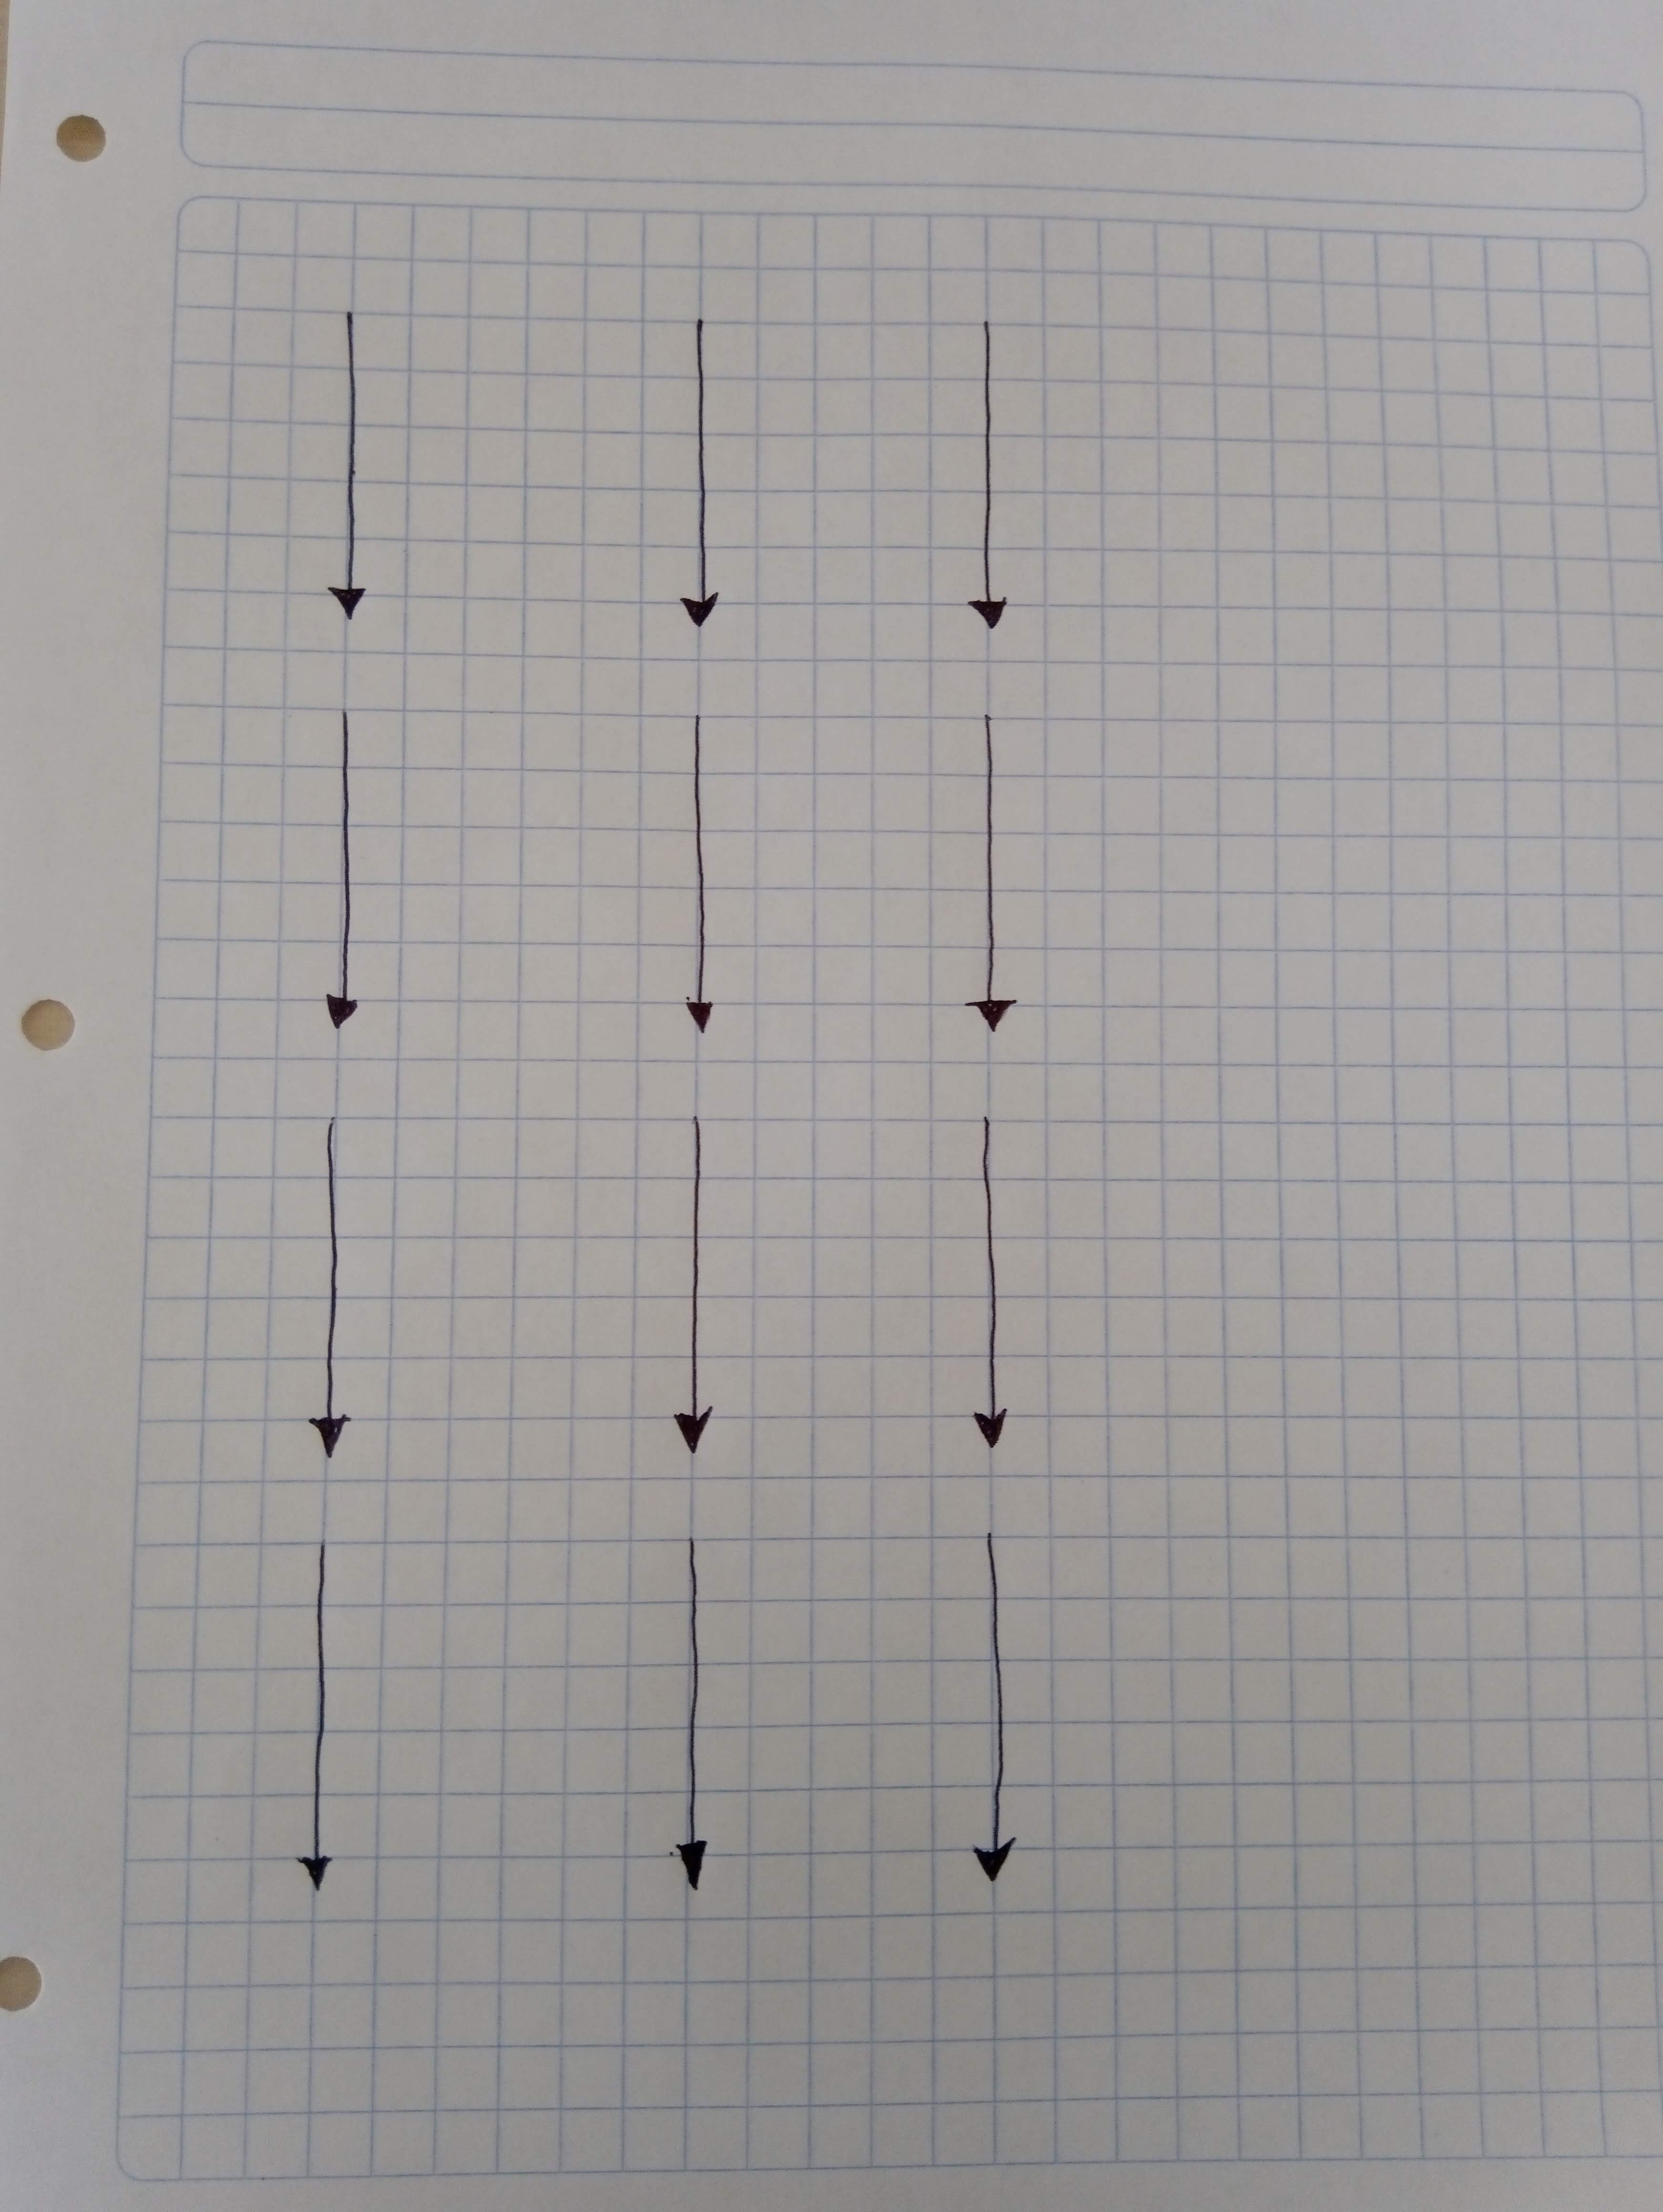arrow_line_down: (653, 1501, 751, 1919), (283, 1114, 376, 1461), (283, 1549, 367, 1913), (950, 1531, 1031, 1905), (957, 718, 1043, 1035), (313, 711, 390, 1041), (664, 307, 737, 644), (964, 1114, 1038, 1447), (653, 718, 727, 1028), (964, 321, 1027, 625), (320, 302, 379, 611), (673, 1124, 716, 1472)
